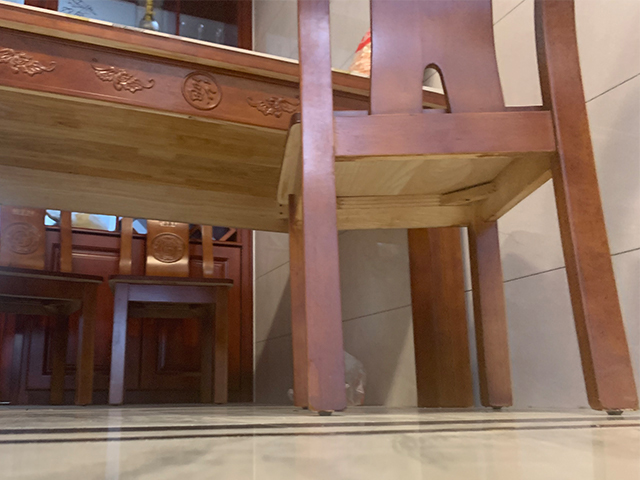stool: (276, 1, 640, 418), (108, 216, 235, 407), (1, 206, 103, 406)
table: (1, 1, 475, 409)
